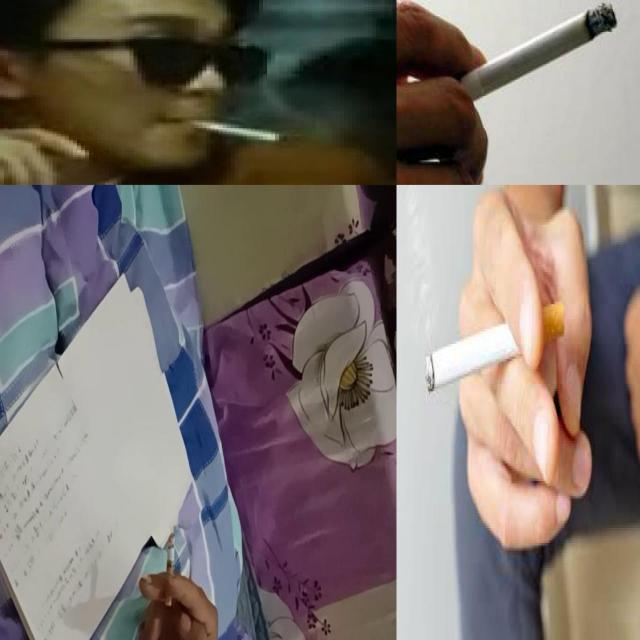cigarette: (450, 1, 618, 102), (426, 302, 564, 396), (173, 118, 280, 141), (164, 533, 176, 607)
